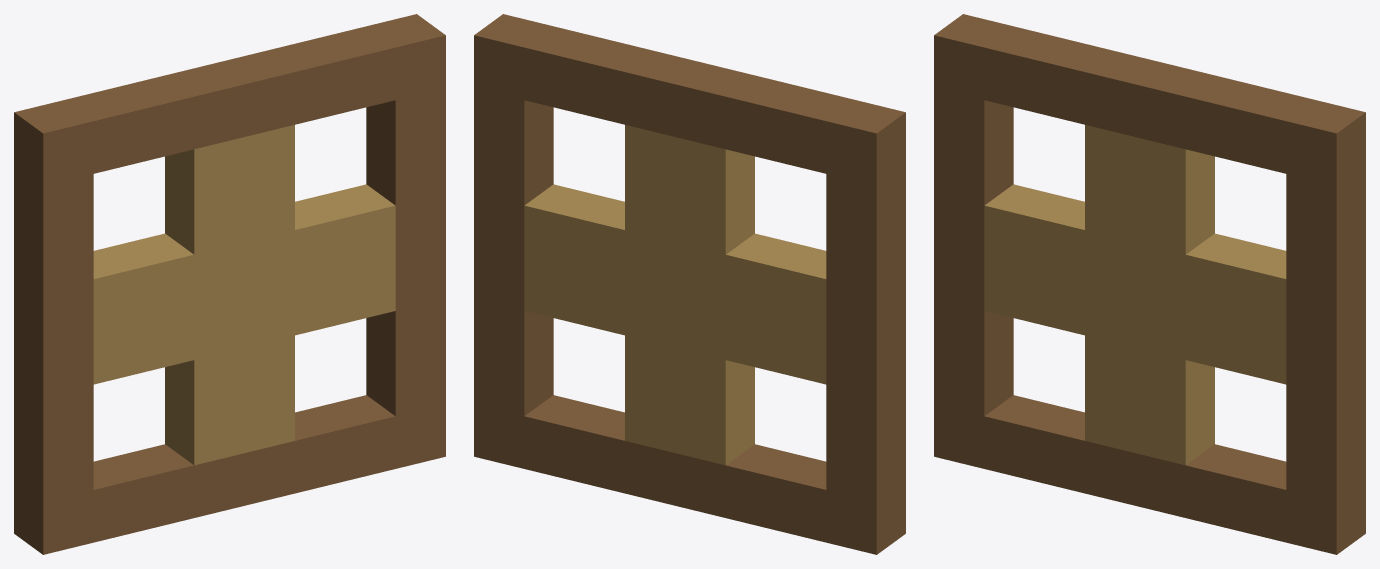
File: Maple Trapdoor.glb
The picture shows the model from 3 angles, left to right: view 1: azimuth 30°, elevation 25°; view 2: azimuth 150°, elevation 25°; view 3: azimuth 330°, elevation 25°; orthographic projection.
Parts seen in each view (by area): view 1: generated(Clone); view 2: generated(Clone); view 3: generated(Clone).
Boxes of the visible parts, left/top/right/bottom form: generated(Clone): left=14, top=14, right=445, bottom=554; generated(Clone): left=474, top=14, right=905, bottom=554; generated(Clone): left=934, top=14, right=1365, bottom=554.
Bounding box in the file's own units: 8 × 8 × 1.
Materials: 1 (1 with a texture image).
